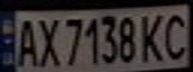1: (81, 14, 100, 65)
3: (100, 12, 121, 65)
7: (60, 14, 84, 66)
8: (115, 11, 142, 64)
A: (12, 15, 39, 67)
C: (157, 8, 193, 62)
K: (136, 10, 169, 63)
X: (33, 13, 60, 69)
